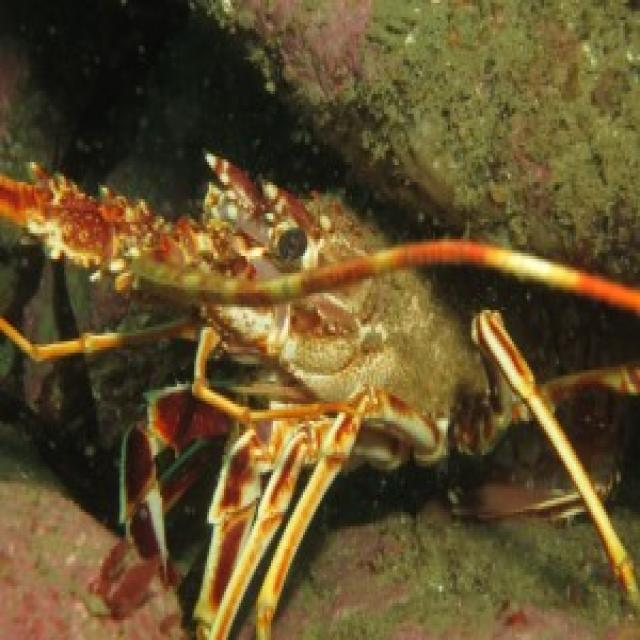lobsters: (10, 88, 640, 634)
